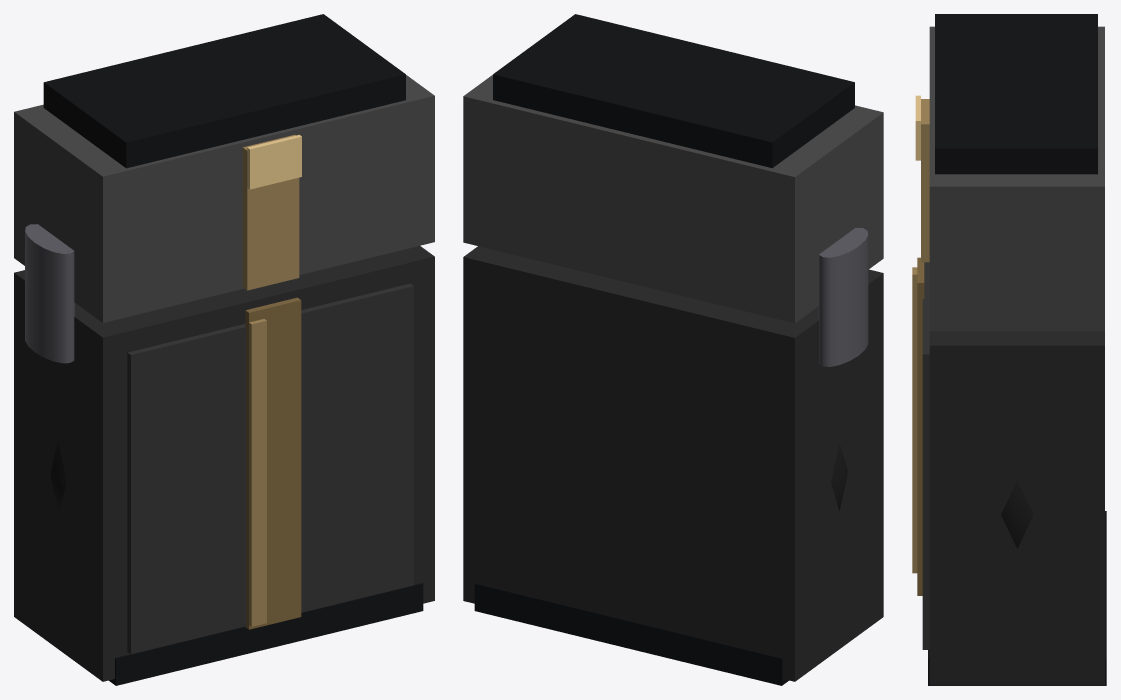
File: CMU3DHandRMCZippoExecCloud.glb
3 renders of one model, left to right at view 1: azimuth 30°, elevation 25°; view 2: azimuth 150°, elevation 25°; view 3: azimuth 270°, elevation 25°, orthographic.
Parts seen in each view (by area): view 1: front enamel panel, closed lid, black lighter lower body, lid dark top, gold center inlay, case bottom rim, hinge barrel, lid gold stripe, gold inlay side glint, lid upper gold glint, lower case side bevels; view 2: black lighter lower body, closed lid, lid dark top, case bottom rim, hinge barrel, lower case side bevels; view 3: black lighter lower body, closed lid, lid dark top, front enamel panel, gold center inlay, gold inlay side glint, lid gold stripe, lower case side bevels, case bottom rim, lid upper gold glint.
Boxes of the visible parts, x1,y1,x2,y2 form: front enamel panel: (127, 283, 413, 654); closed lid: (14, 75, 434, 322); black lighter lower body: (14, 246, 434, 681); lid dark top: (43, 14, 405, 168); gold center inlay: (245, 297, 301, 629); case bottom rim: (109, 583, 423, 685); hinge barrel: (25, 224, 74, 363); lid gold stripe: (242, 134, 299, 290); gold inlay side glint: (249, 319, 266, 626); lid upper gold glint: (247, 134, 301, 189); lower case side bevels: (50, 442, 66, 510); black lighter lower body: (463, 246, 883, 681); closed lid: (463, 75, 883, 323); lid dark top: (493, 14, 854, 168); case bottom rim: (474, 583, 788, 685); hinge barrel: (818, 228, 868, 366); lower case side bevels: (831, 442, 847, 510); black lighter lower body: (929, 331, 1104, 685); closed lid: (929, 26, 1104, 331); lid dark top: (935, 14, 1097, 174); front enamel panel: (922, 262, 929, 649); gold center inlay: (917, 257, 924, 595); gold inlay side glint: (912, 267, 917, 573); lid gold stripe: (921, 99, 929, 262); lower case side bevels: (1001, 480, 1033, 548); case bottom rim: (928, 511, 1106, 685); lid upper gold glint: (915, 95, 920, 160).
Size of the model in its own units: 0.235 by 0.334 by 0.111.
